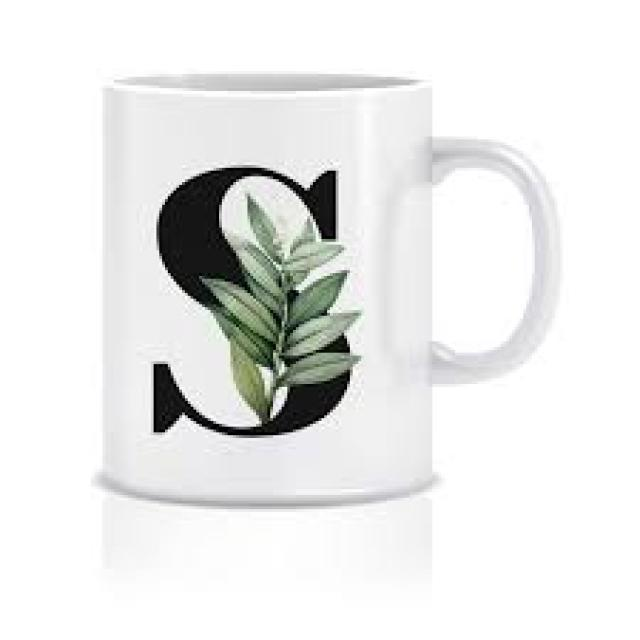taza: (103, 71, 561, 509)
